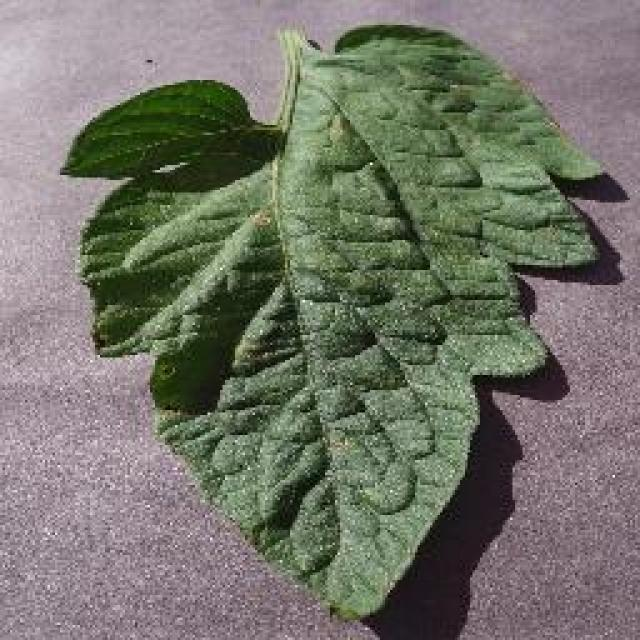Tomato___Target_Spot: (62, 25, 595, 615)
